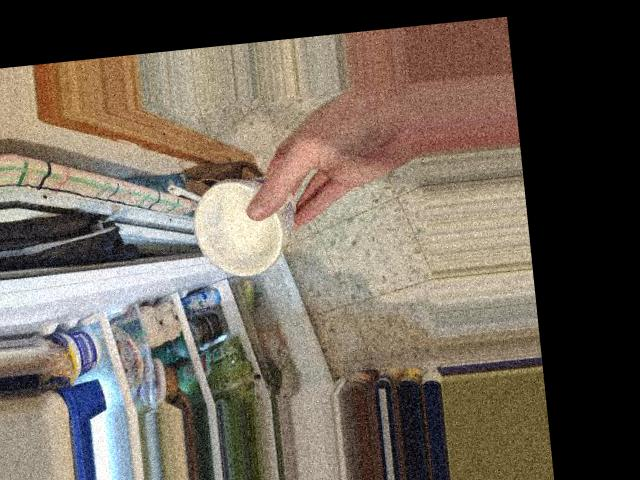cotage: (177, 172, 308, 279)
